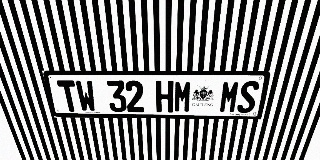2: (125, 80, 144, 112)
3: (106, 80, 127, 112)
H: (156, 80, 174, 112)
M: (218, 81, 241, 113), (174, 80, 192, 112)
S: (236, 81, 260, 113)
T: (56, 80, 80, 112)
W: (74, 80, 97, 112)
